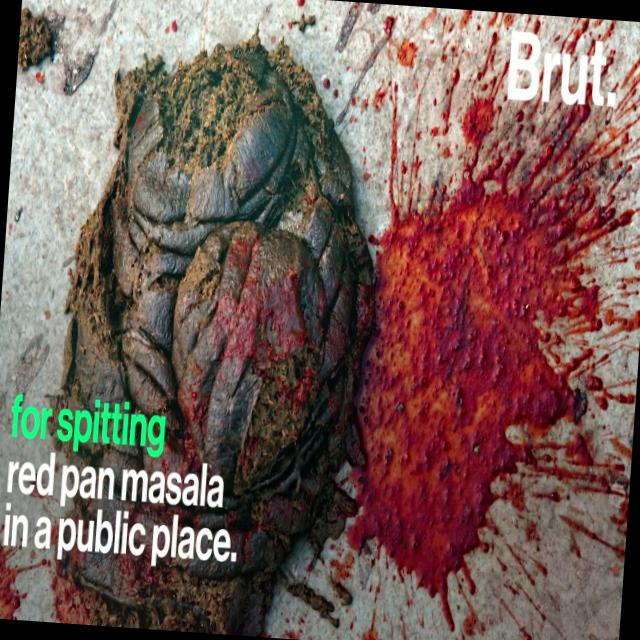spit: (360, 150, 616, 588)
